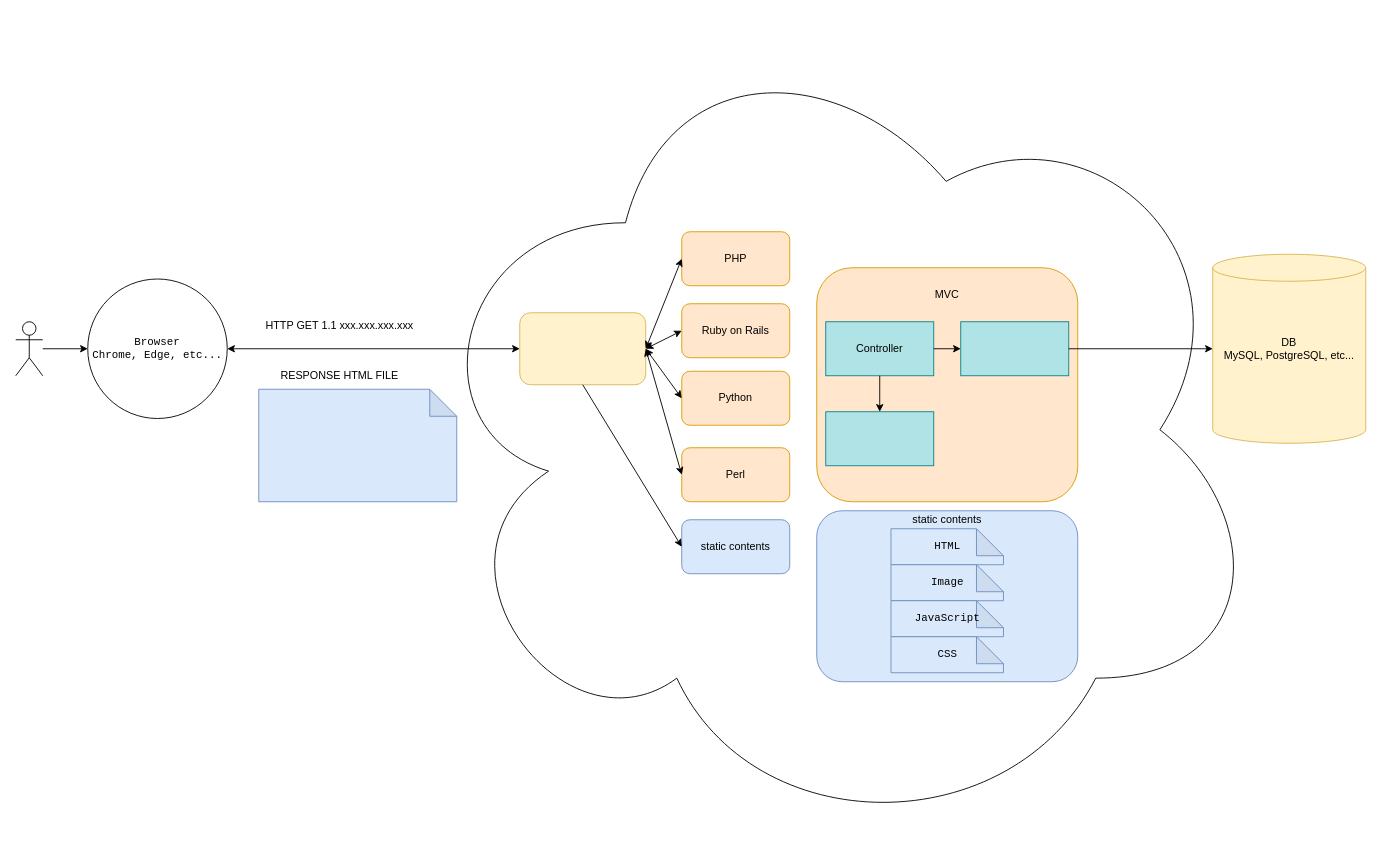
Image size: 1382x860. Some labels were removed from this diagram. Here are the shapes that lost their labels. From the top down, the centre of each, then its label:
At point 29,348: "Actor".
At point 582,348: "WebServer Apache, nginx, ettc...".
At point 1014,348: "Model".
At point 357,445: "<HTML> <HEAD> <TITLE>Hello</TITLE> </HEAD> <BODY> Hello World! </BODY> </HTML>".
At point 879,438: "View".
